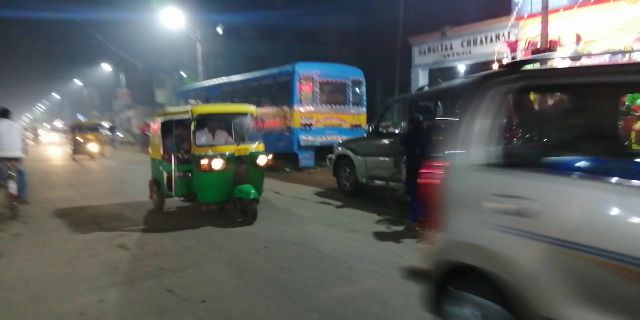Autorickshaw: (145, 104, 275, 226)
Bus: (283, 59, 365, 167)
